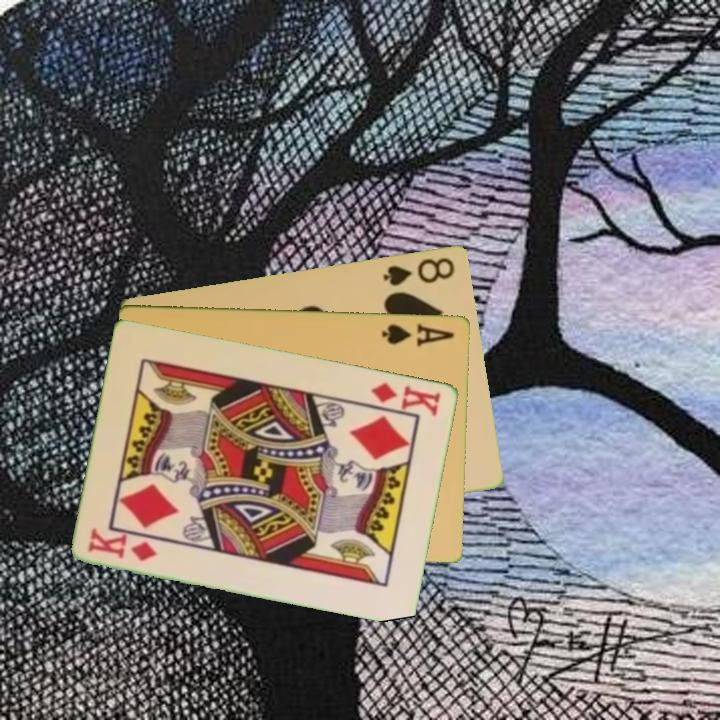8s: (379, 253, 458, 289)
As: (379, 319, 458, 349)
Kd: (368, 378, 444, 419), (85, 525, 161, 564)
